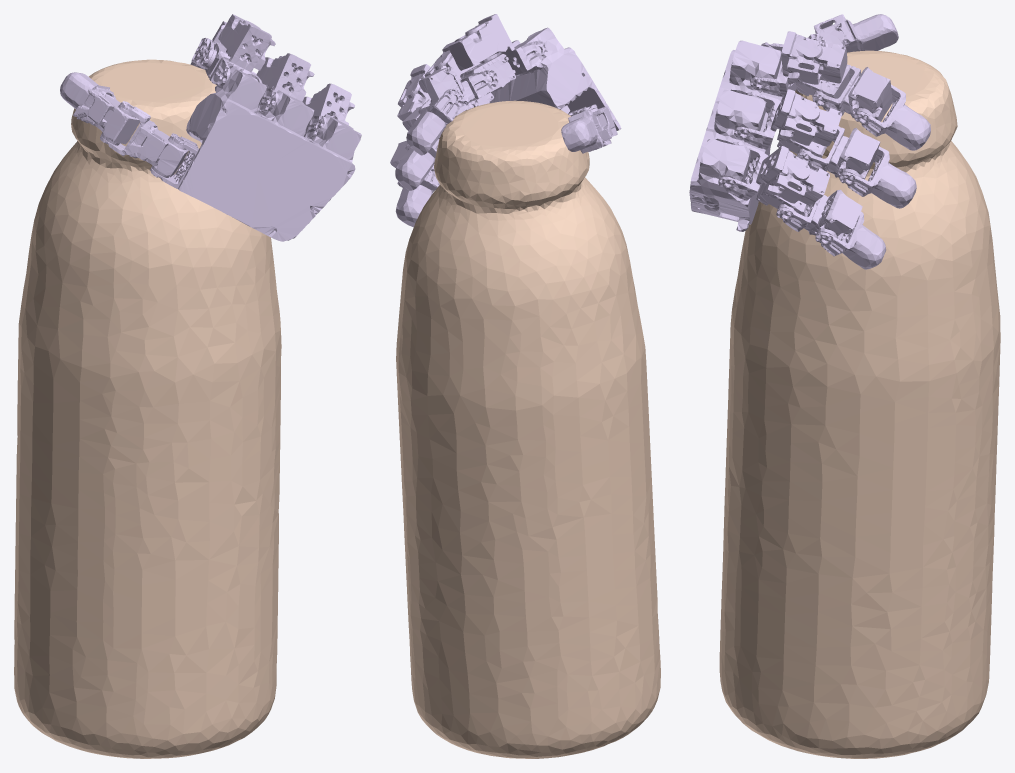
The model's file is 1d800bd9792259-closed.glb.
3 views of the same model, side by side, from view 1: azimuth 30°, elevation 25°; view 2: azimuth 150°, elevation 25°; view 3: azimuth 270°, elevation 25° (orthographic). The views are drawn at different scales.
Visible parts, largest first — view 1: world, LEAP_hand; view 2: world, LEAP_hand; view 3: world, LEAP_hand.
Boxes of the visible parts, <box> form: world: <box>14,59,281,758</box>; LEAP_hand: <box>60,14,361,241</box>; world: <box>396,100,660,758</box>; LEAP_hand: <box>390,14,621,227</box>; world: <box>719,50,1000,758</box>; LEAP_hand: <box>689,14,930,269</box>.
Size of the model in its own units: 0.2568 by 0.6028 by 0.2355.
